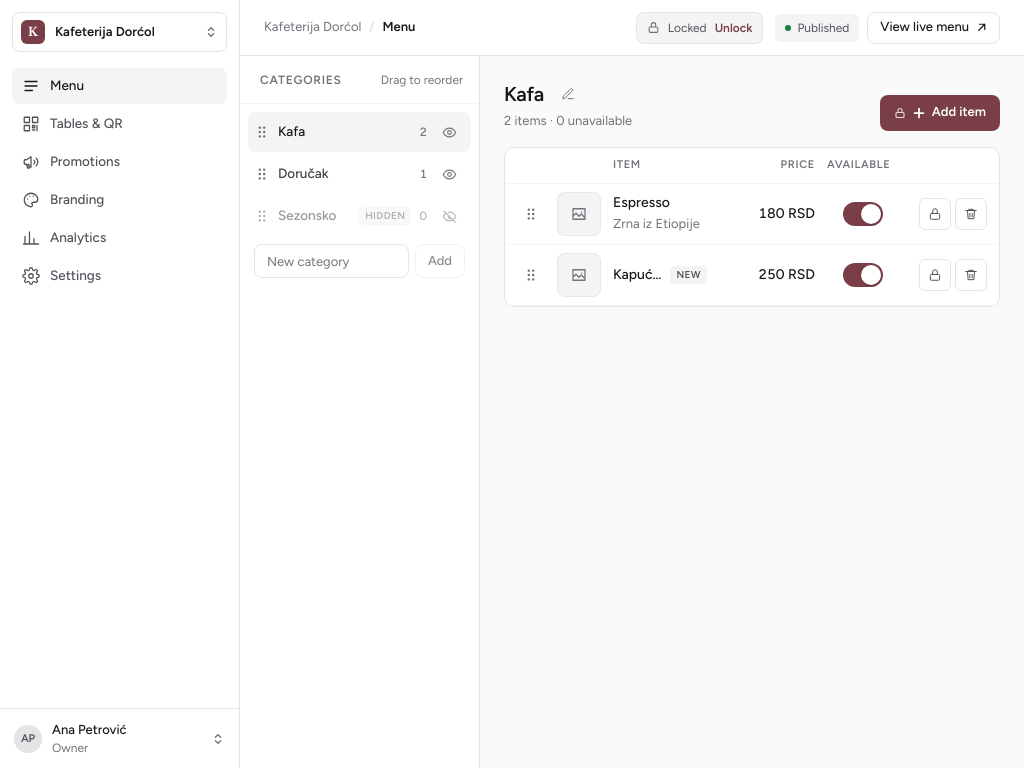
Scenario: owner PIN (Phase 11) › locks owner actions on a device: "Add item" opens the keypad, the right PIN unlocks and opens the editor
expect the text "Locked" is shown: met, box x1=668 y1=20 x2=707 y2=34
Click the button "Add item" at {"x": 940, "y": 113}, box x1=880 y1=95 x2=1000 y2=131
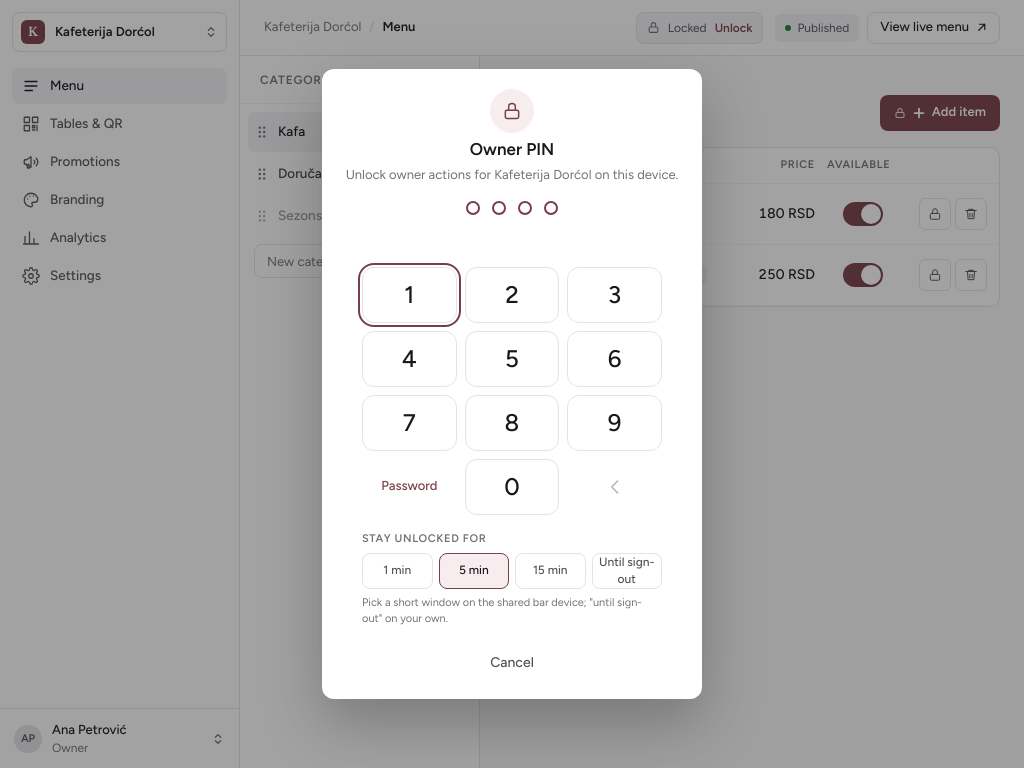
expect the dialog "New item" is not shown: met
Click the button "2" at {"x": 512, "y": 295}, box x1=465 y1=267 x2=559 y2=323
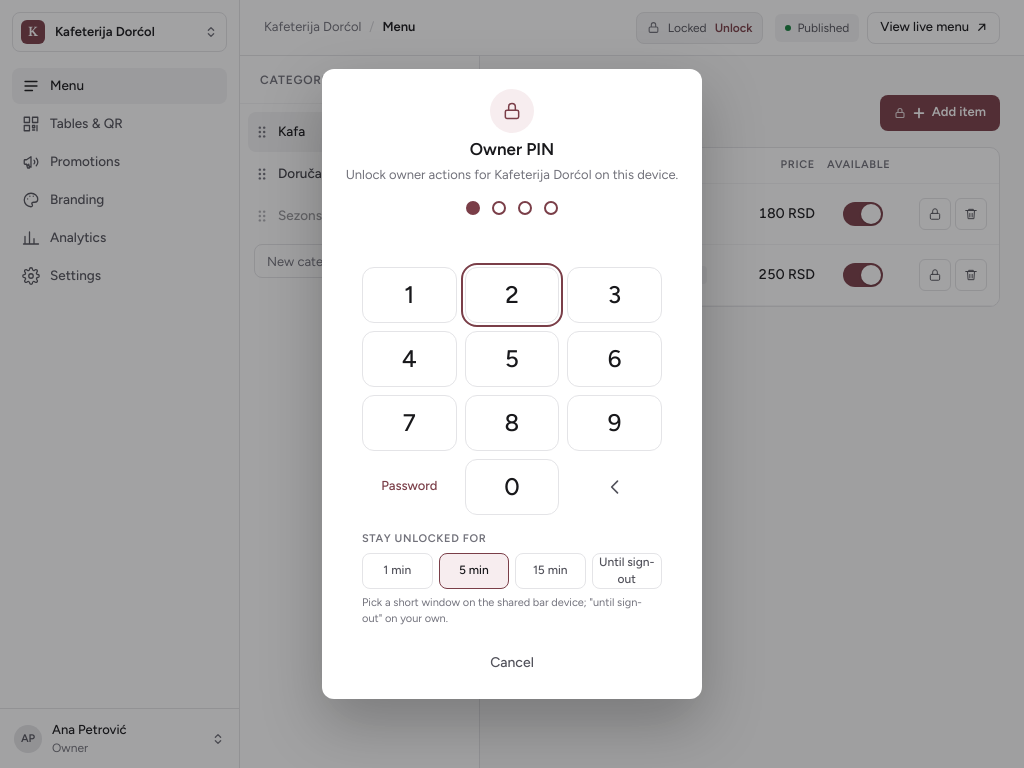
Click the button "5" at {"x": 512, "y": 359}, box x1=465 y1=331 x2=559 y2=387
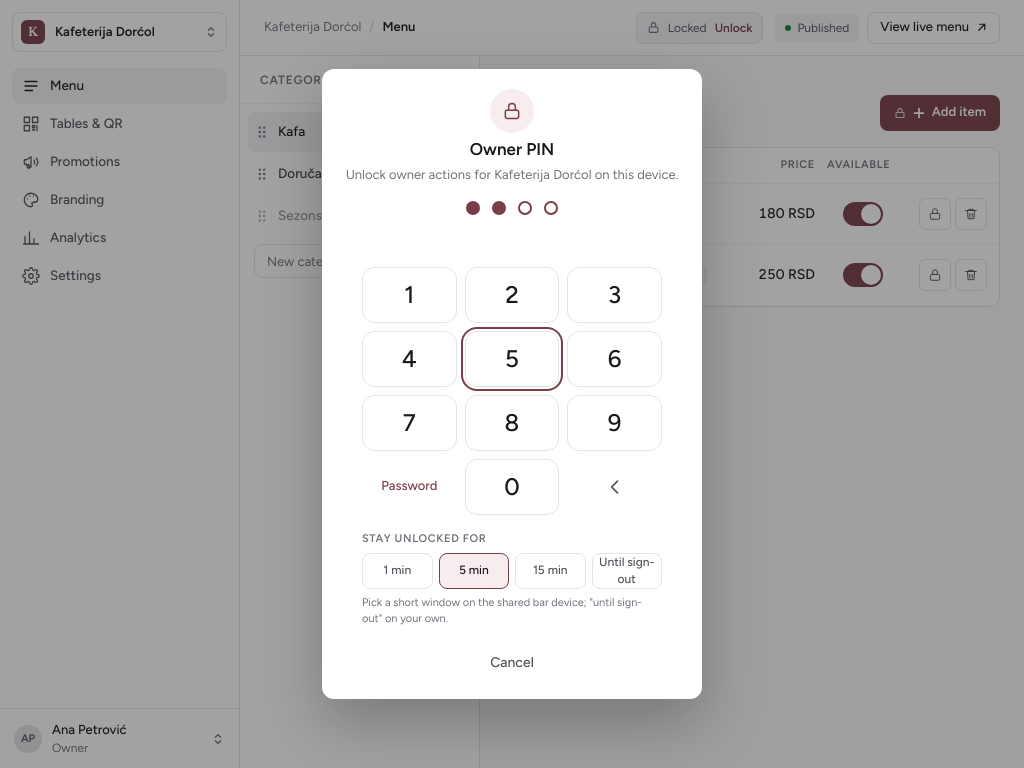
Click the button "8" at {"x": 512, "y": 423}, box x1=465 y1=395 x2=559 y2=451
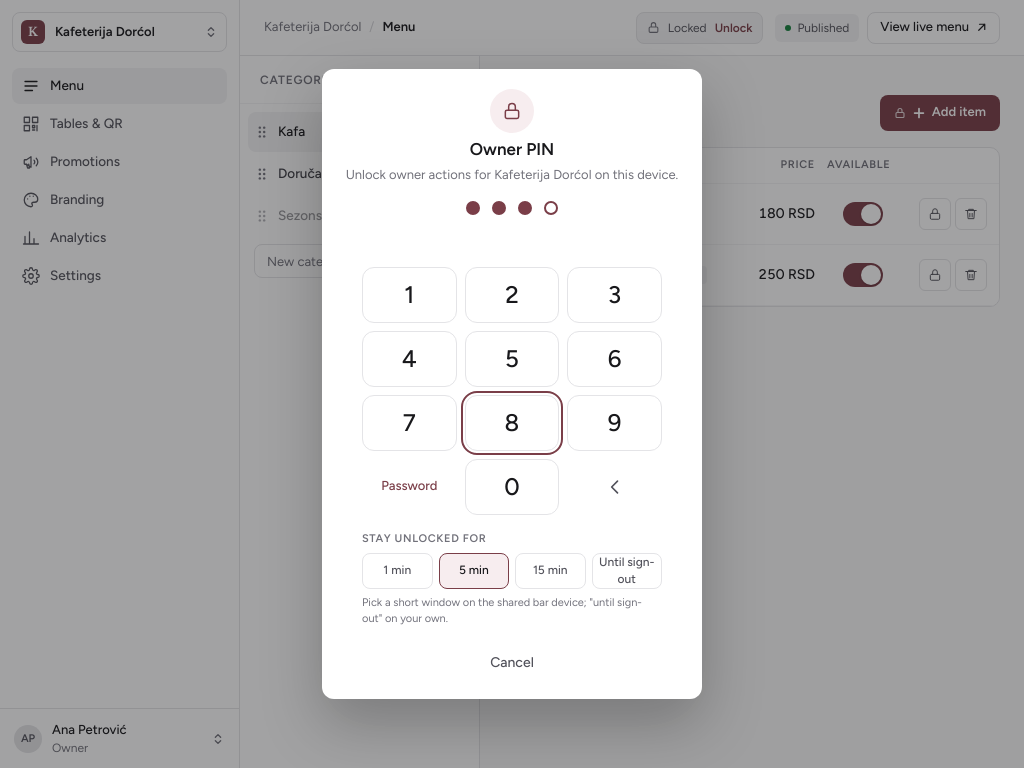
Click the button "0" at {"x": 512, "y": 487}, box x1=465 y1=459 x2=559 y2=515
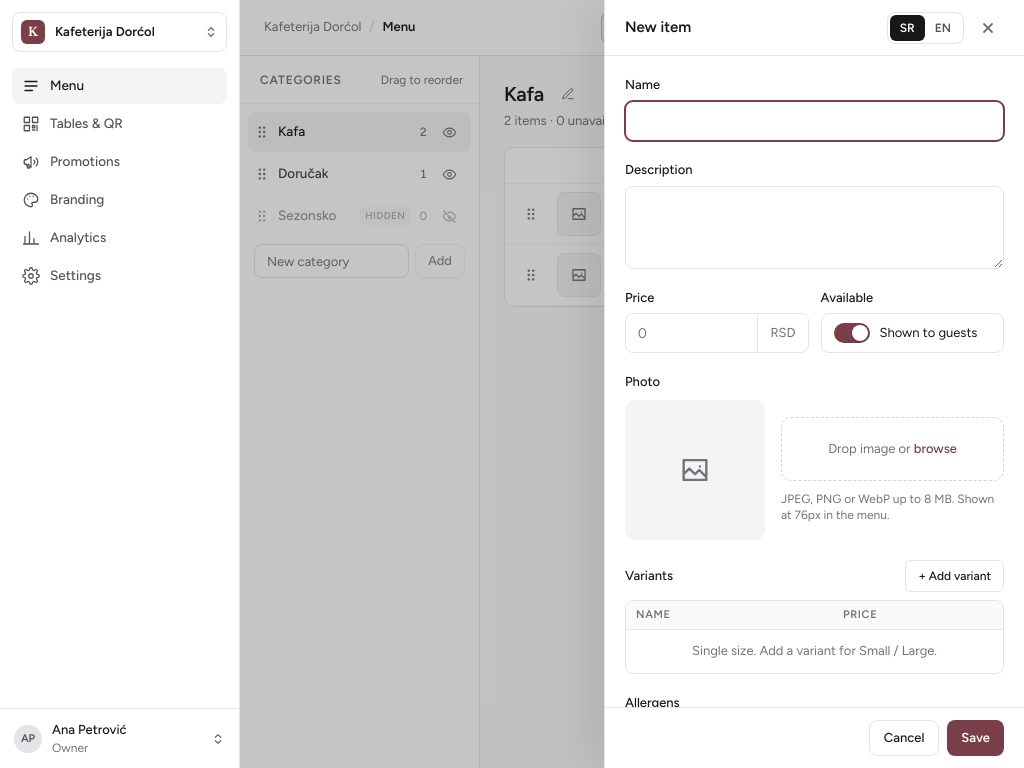
expect the text "Unlocked · 5:01 Lock" is shown: met, box x1=601 y1=12 x2=763 y2=44
expect the dialog "New item" is shown: met, box x1=604 y1=0 x2=1023 y2=767
expect the heading "Owner PIN" is gone: met
